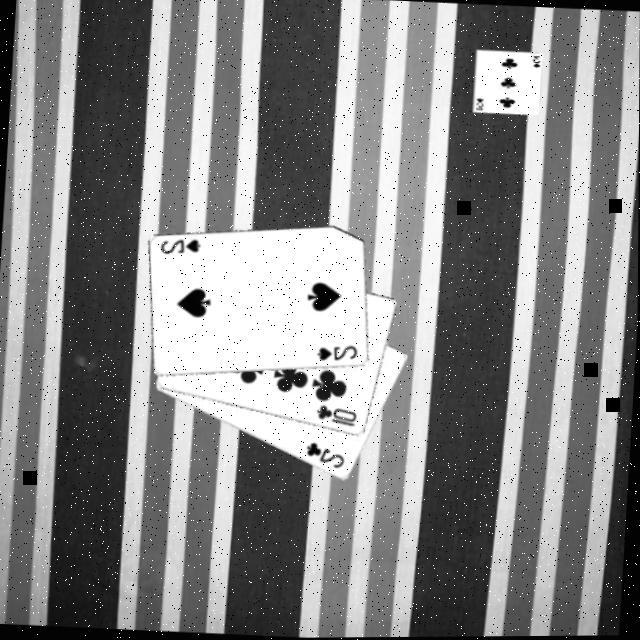10C: (315, 402, 362, 430)
2C: (305, 438, 351, 472)
2S: (316, 340, 363, 364), (159, 234, 206, 258)
